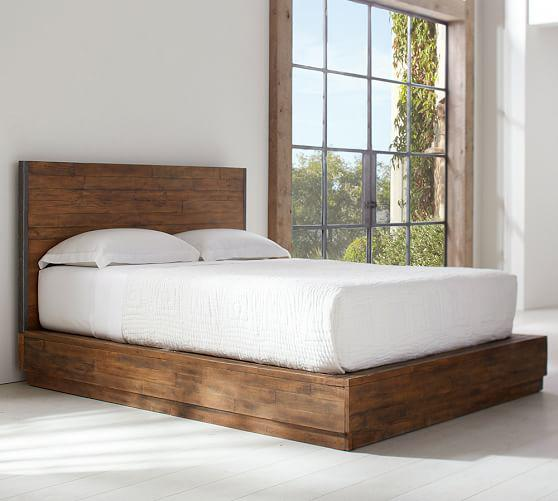bed: (11, 148, 555, 464)
